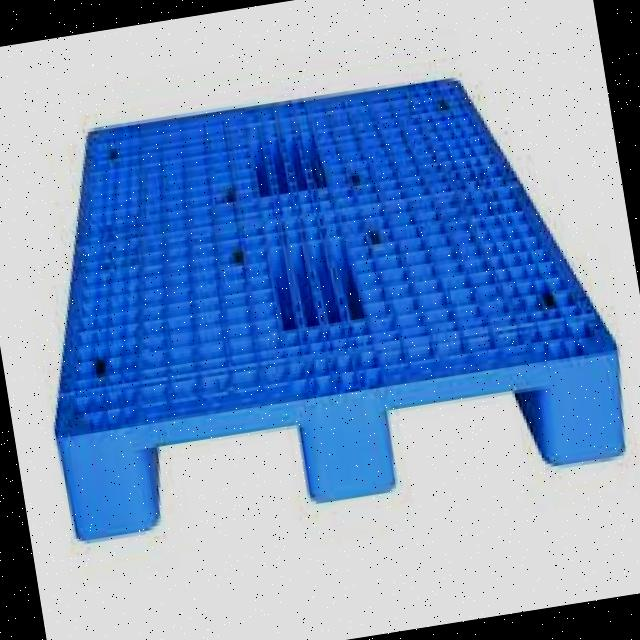block: (290, 385, 399, 503), (56, 423, 157, 543), (538, 354, 631, 473)
front: (58, 354, 623, 543)
hole pallet: (387, 390, 552, 489), (152, 427, 310, 527)
